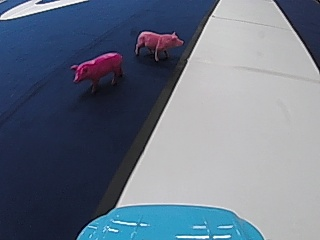pig: (68, 49, 124, 94), (132, 27, 184, 60)
